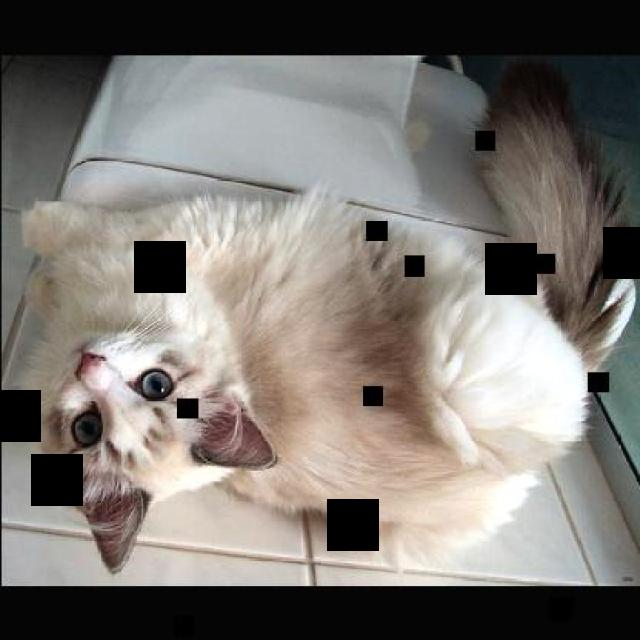unauthorized: (9, 60, 637, 574)
